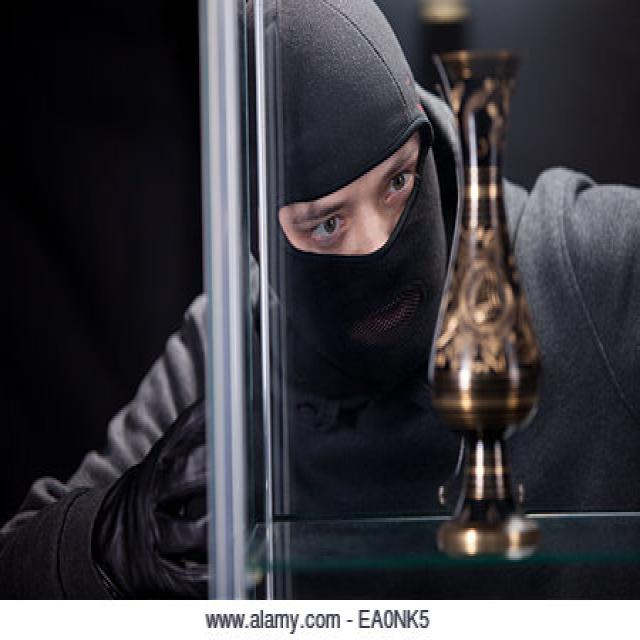6_pasamontana: (245, 0, 446, 387)
